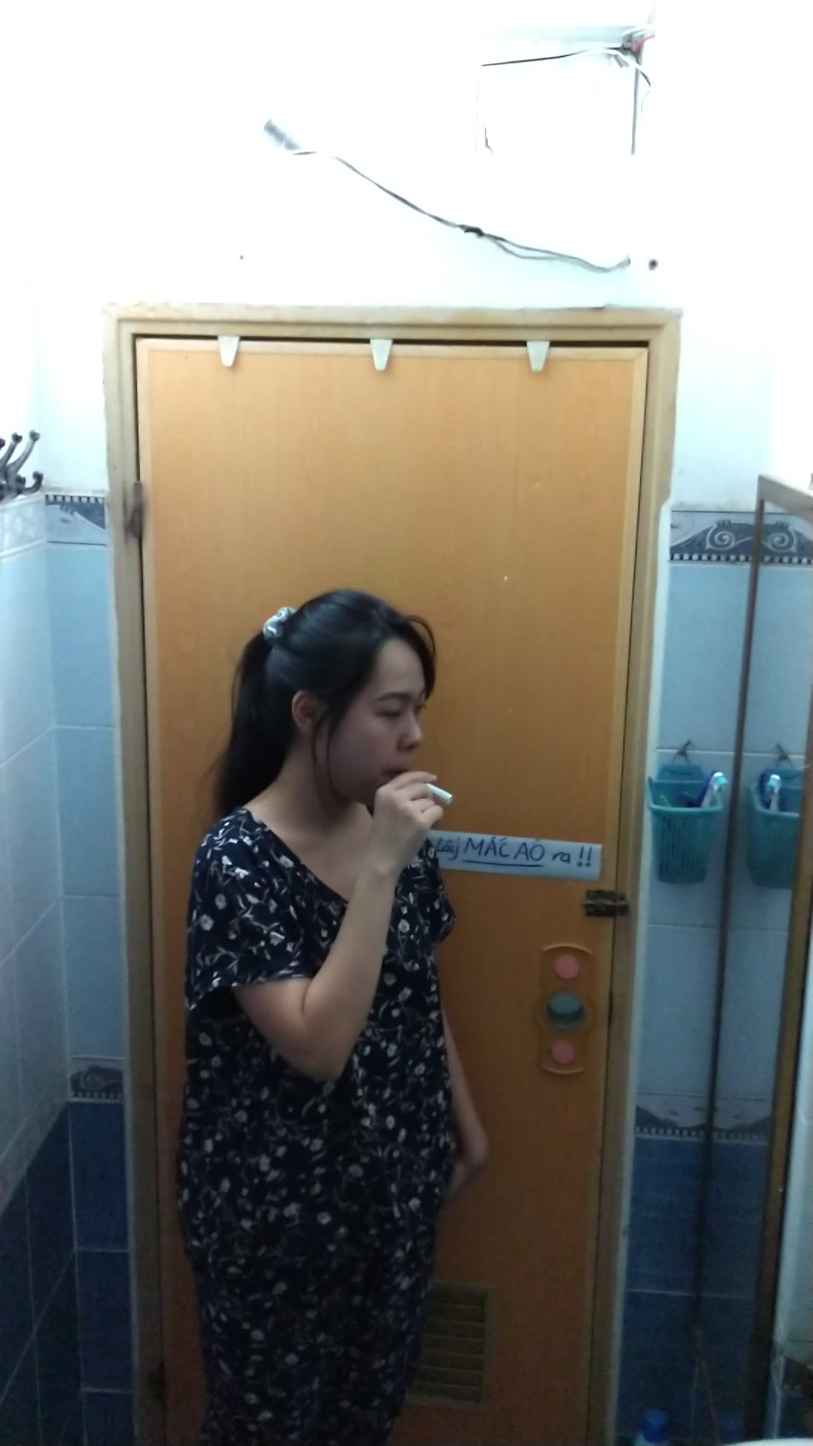cigarette: (425, 780, 459, 812)
person: (176, 581, 480, 1446)
